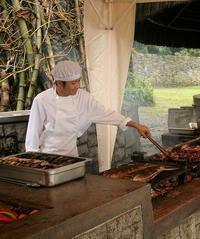person: (24, 60, 151, 158)
